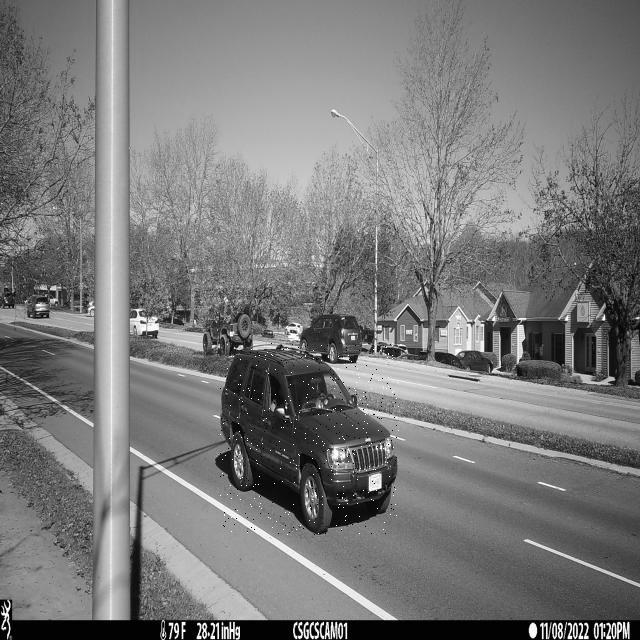SUV: (220, 342, 399, 535)
